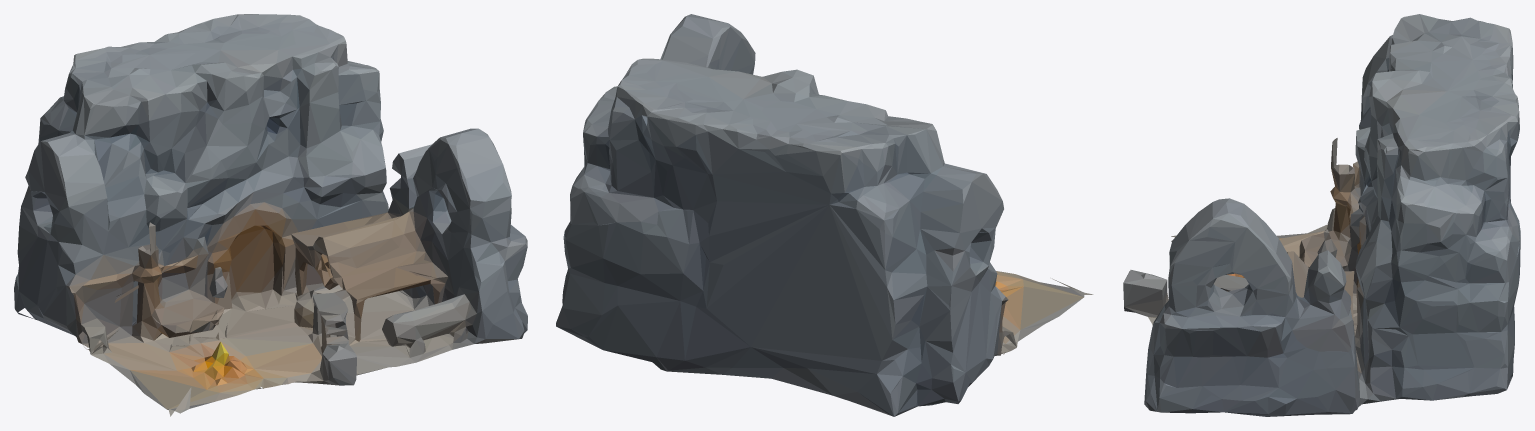
Rendered from dwarf_camp.glb.
3 views of the same model, side by side, from view 1: azimuth 30°, elevation 25°; view 2: azimuth 150°, elevation 25°; view 3: azimuth 270°, elevation 25° (orthographic). The views are drawn at different scales.
Visible parts, largest first — view 1: geometry_0; view 2: geometry_0; view 3: geometry_0.
Boxes of the visible parts, x1=… form: geometry_0: x1=14, y1=14, x2=527, y2=416; geometry_0: x1=556, y1=14, x2=1093, y2=416; geometry_0: x1=1123, y1=14, x2=1520, y2=416.
Size of the model in its own units: 1.89 by 1.11 by 1.62.
